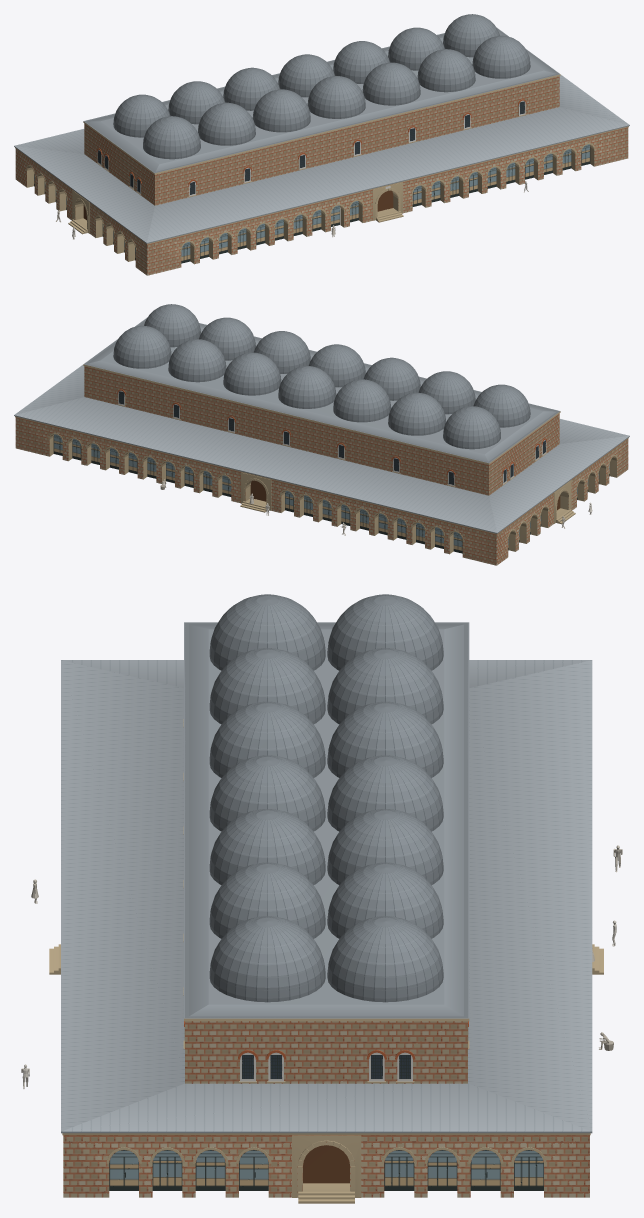
File: bedesten_v05.glb
The picture shows the model from 3 angles, top to bottom: view 1: azimuth 30°, elevation 25°; view 2: azimuth 150°, elevation 25°; view 3: azimuth 270°, elevation 25°; orthographic projection. The views are drawn at different scales.
Parts seen in each view (by area): view 1: Cati, Kubbeler, Dukkanlar, Govde, Sacak, Pencereler, Kapilar, Dukkan_Kapilari; view 2: Cati, Kubbeler, Dukkanlar, Govde, Sacak, Pencereler, Kapilar, Dukkan_Kapilari; view 3: Cati, Kubbeler, Dukkanlar, Govde, Sacak, Kapilar, Pencereler, Dukkan_Kapilari.
Part boxes in pixels (x1,y1,x2,y2): Cati: (14, 31, 629, 243); Kubbeler: (113, 14, 530, 159); Dukkanlar: (15, 127, 628, 275); Govde: (84, 28, 559, 205); Sacak: (15, 27, 628, 244); Pencereler: (97, 99, 526, 196); Kapilar: (68, 182, 403, 234); Dukkan_Kapilari: (26, 143, 595, 250); Cati: (14, 321, 629, 533); Kubbeler: (113, 304, 530, 449); Dukkanlar: (15, 417, 628, 565); Govde: (84, 318, 559, 495); Sacak: (15, 317, 628, 534); Pencereler: (117, 389, 546, 486); Kapilar: (240, 472, 575, 524); Dukkan_Kapilari: (48, 433, 617, 540); Cati: (61, 624, 592, 1133); Kubbeler: (209, 594, 443, 1002); Dukkanlar: (63, 1135, 589, 1197); Govde: (185, 622, 467, 1083); Sacak: (62, 622, 590, 1135); Kapilar: (49, 944, 603, 1203); Pencereler: (183, 719, 469, 1082); Dukkan_Kapilari: (106, 1147, 546, 1163).
Size of the model in its own units: 74.45 by 14.2 by 38.26.
Materials: 13 (5 with a texture image).
